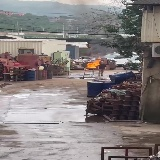fire: (85, 58, 101, 68)
